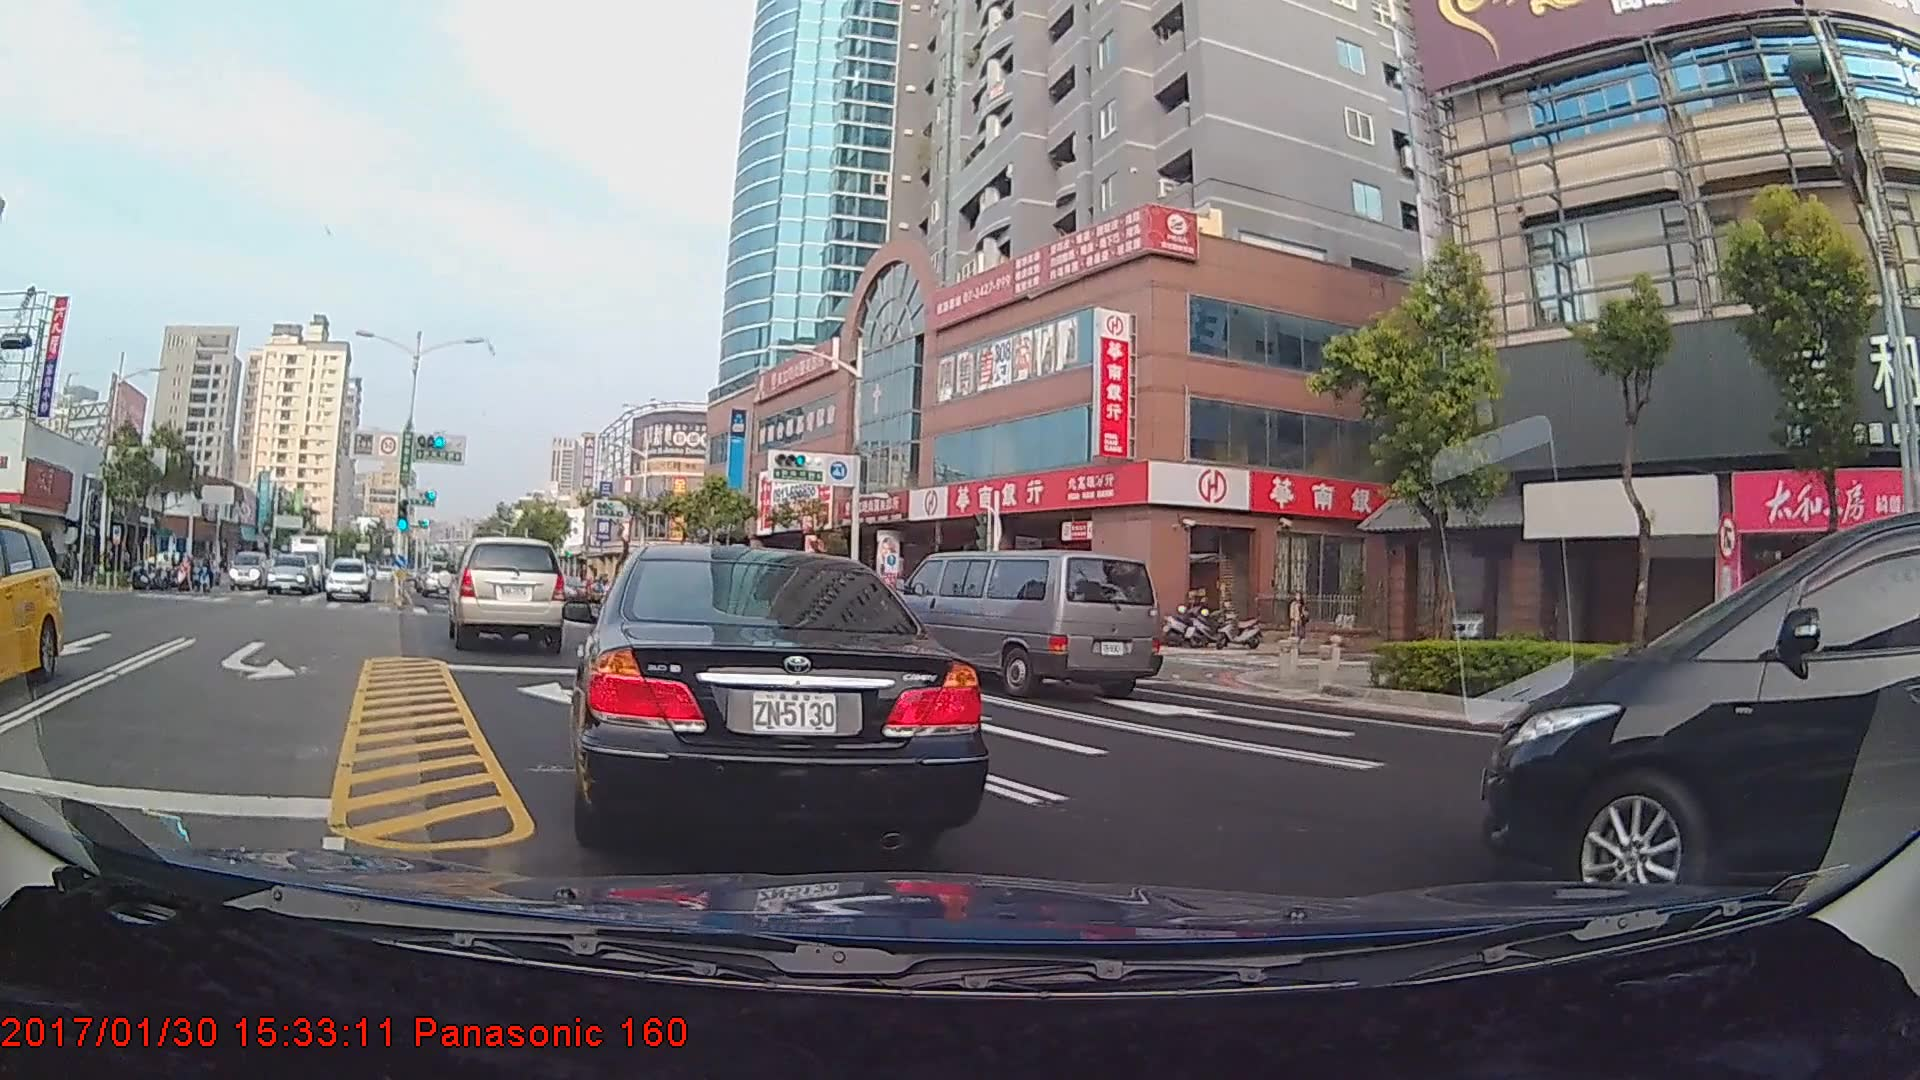pedestrian: (1284, 593, 1313, 657)
vehicle: (1452, 472, 1905, 899), (568, 531, 984, 853), (891, 549, 1159, 700), (448, 535, 565, 652), (0, 516, 63, 689), (285, 531, 339, 592), (266, 551, 320, 597), (325, 556, 372, 602), (229, 550, 268, 590), (420, 560, 457, 599)
